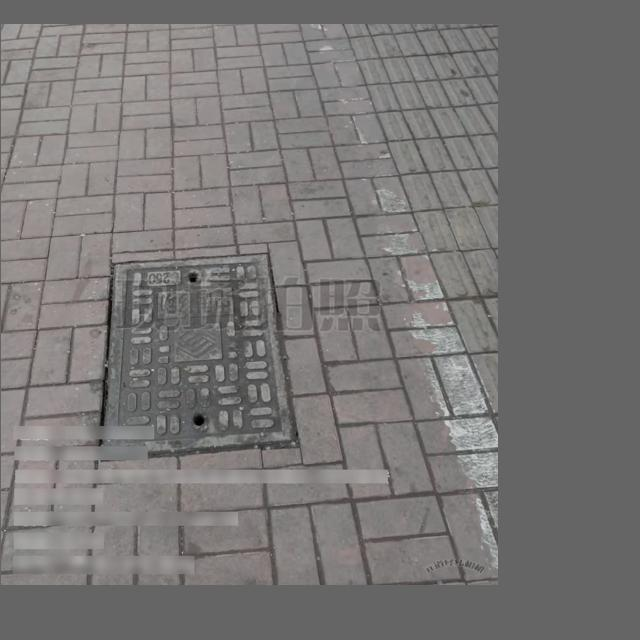good: (96, 253, 298, 462)
